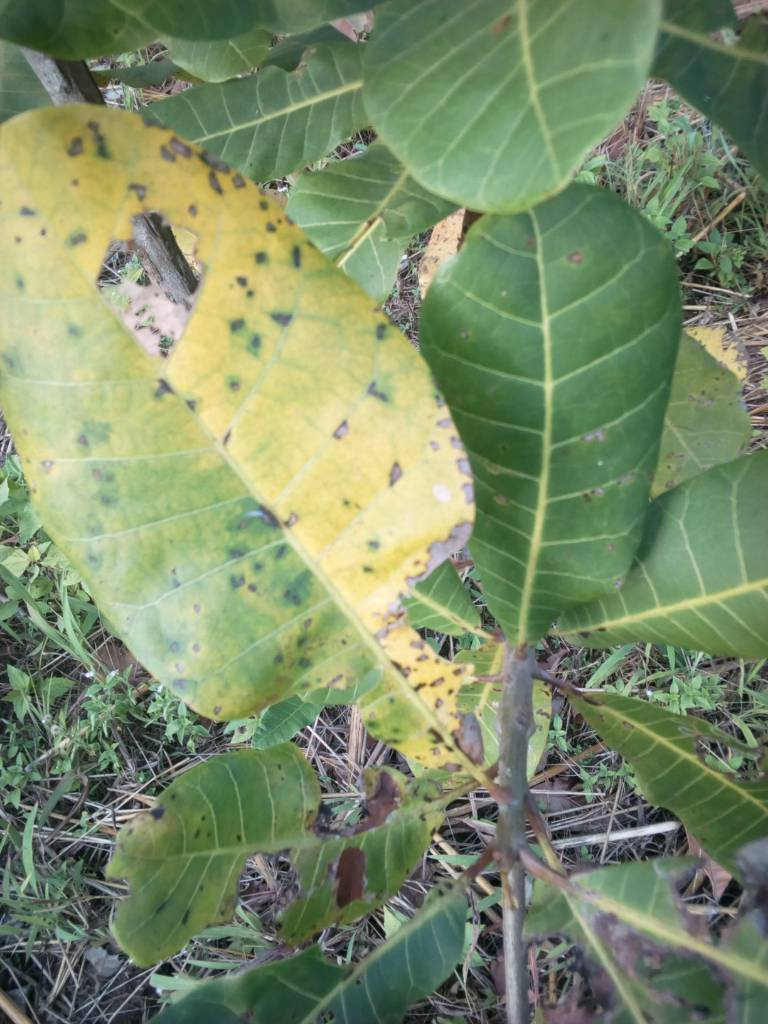Bactériose: (1, 110, 475, 763), (102, 741, 463, 961)
